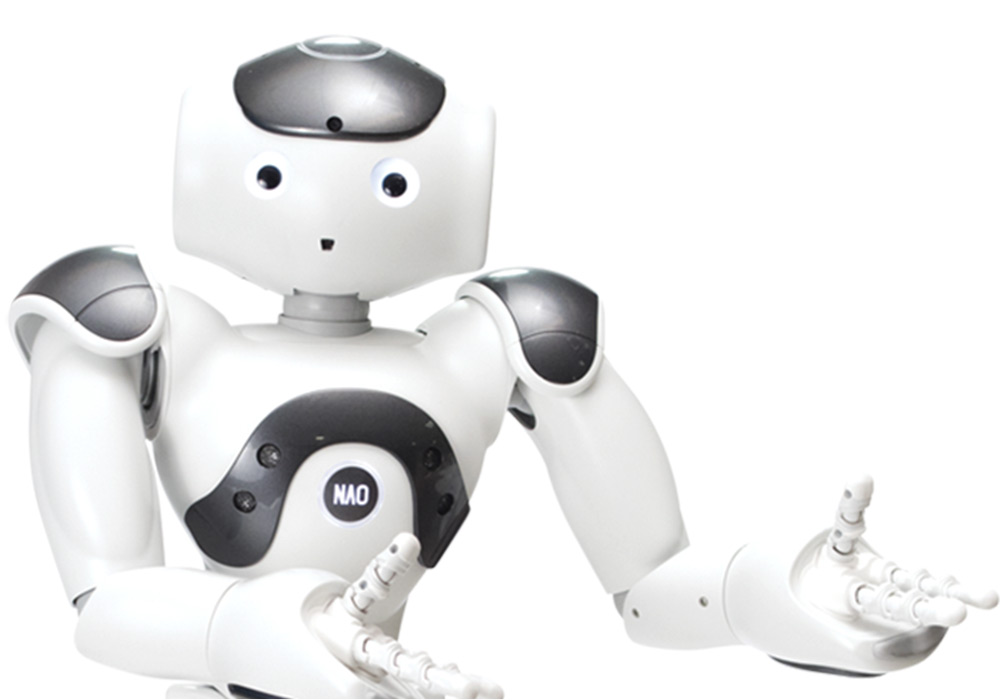nao: (13, 27, 1000, 697)
